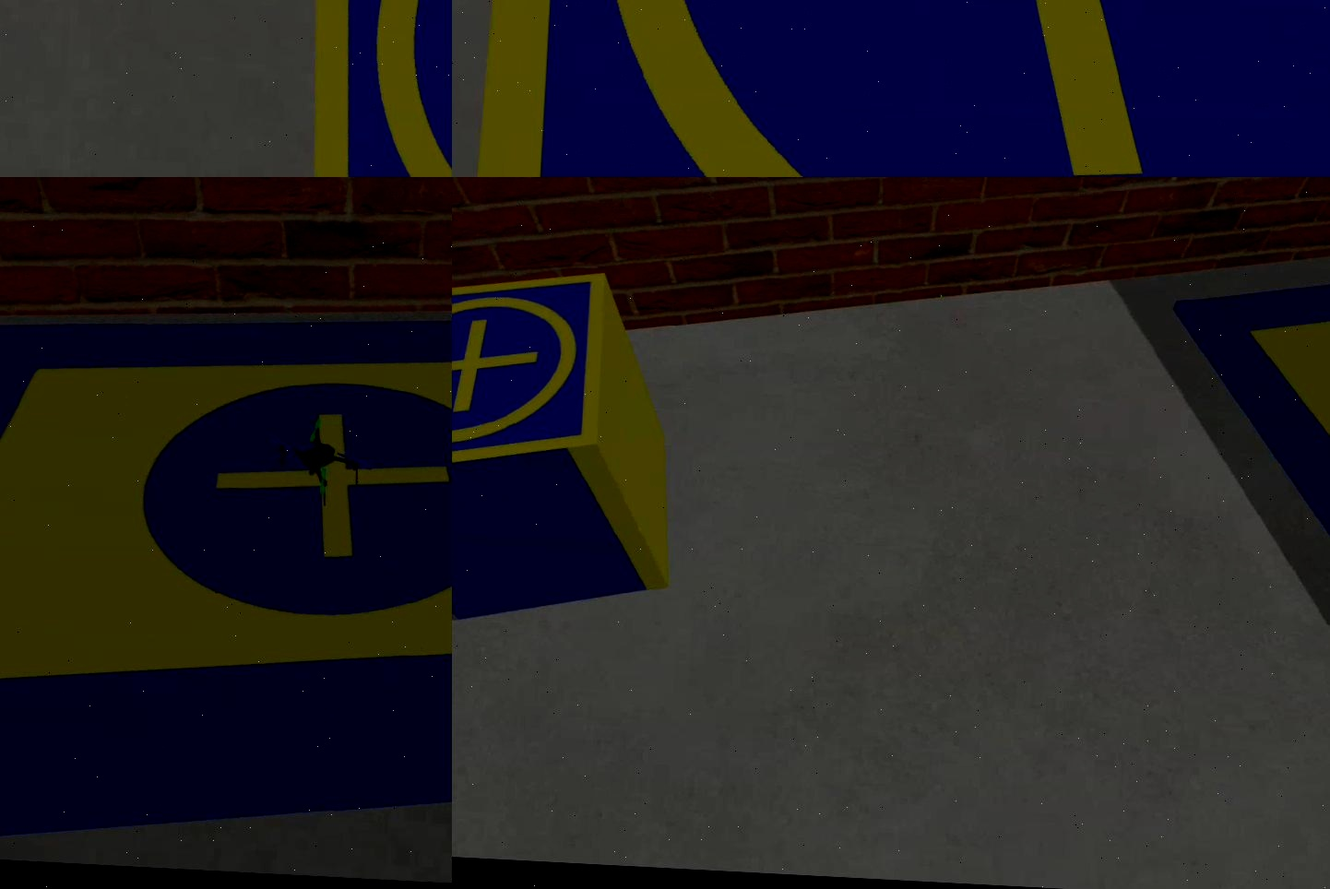large_base: (1, 279, 453, 889), (1152, 255, 1330, 742)
small_base: (457, 1, 1330, 178), (453, 264, 610, 491), (289, 1, 453, 178)
